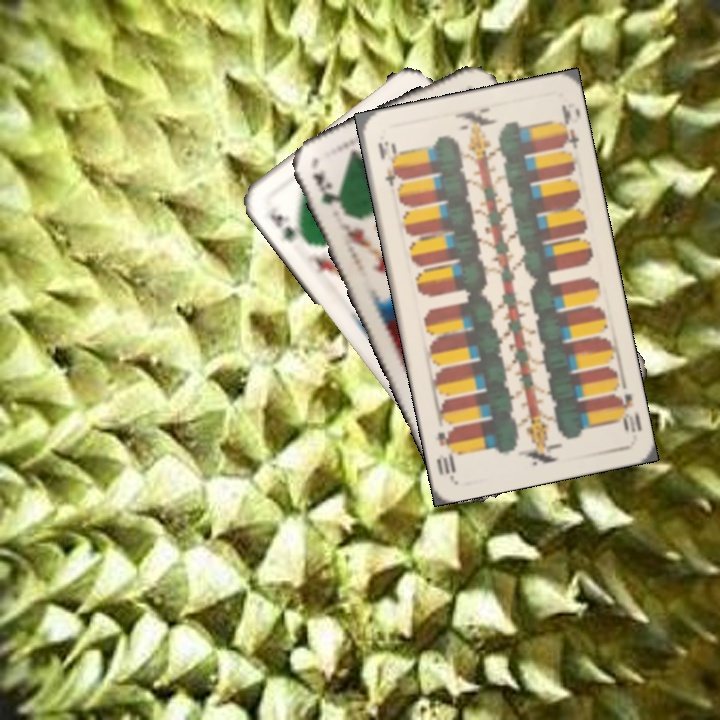E10: (608, 381, 644, 436), (373, 137, 402, 189)
GK: (265, 203, 309, 245), (308, 168, 347, 214)
